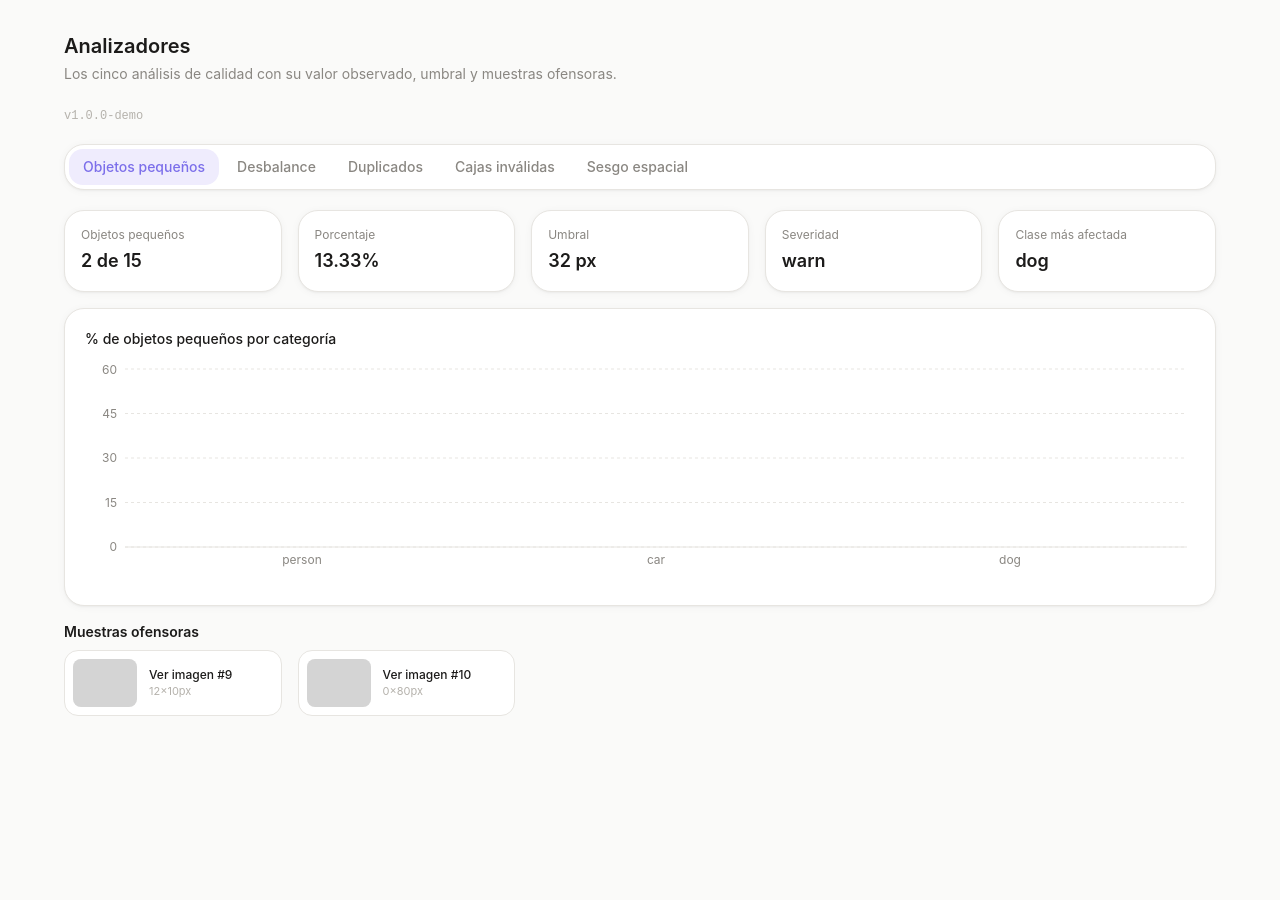
SPEC-QUALITY-UI-003 — Analyzers › grafica los pares de duplicados por distancia de pHash
Click the tab "Duplicados": (385, 167) [334,149,437,185]
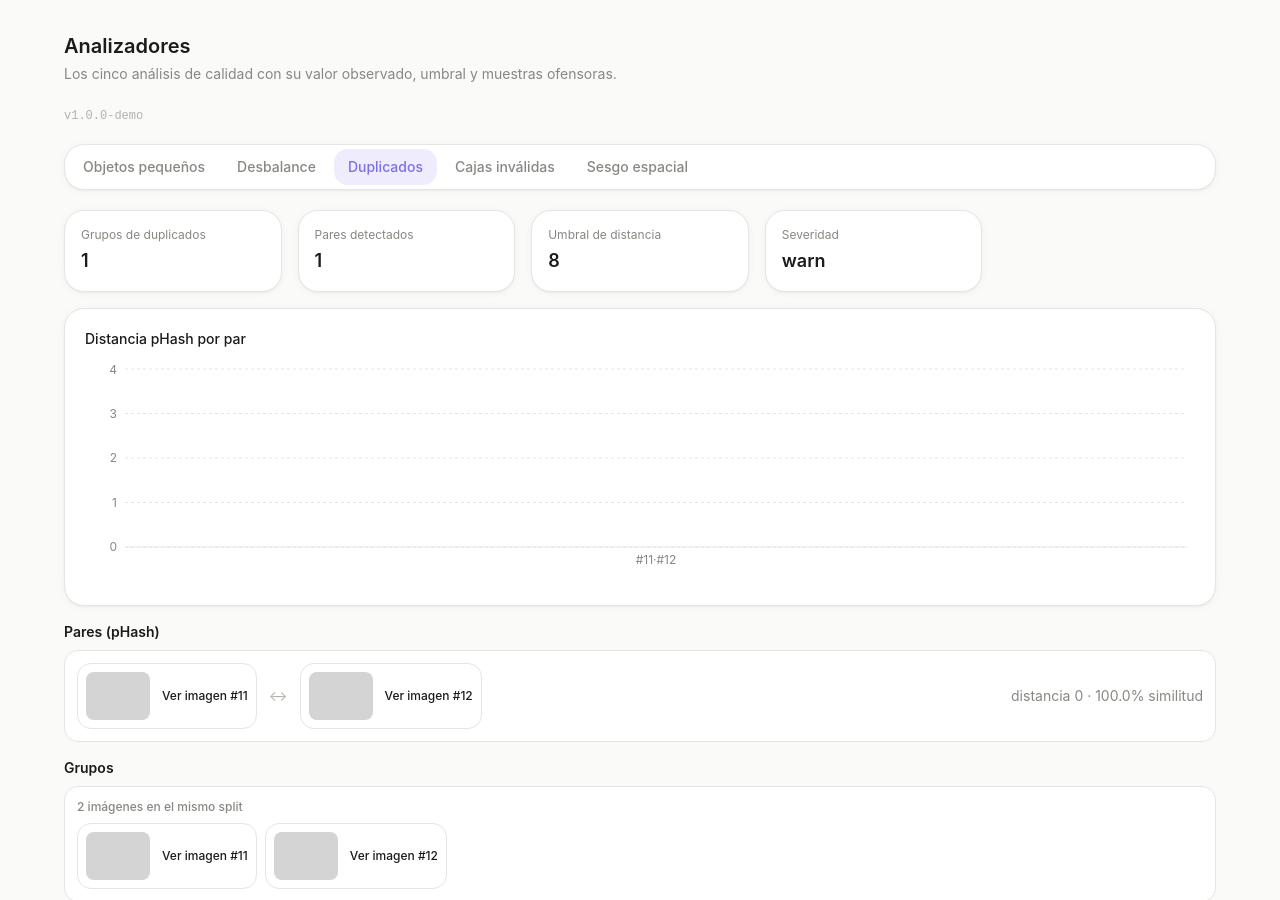
Check: the heading "Distancia pHash por par" is shown, box [85,330,246,347]
